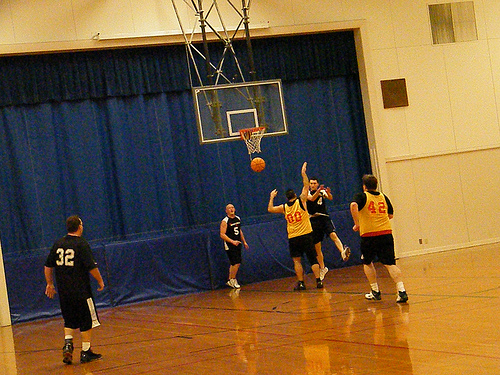basketball: (250, 156, 266, 173)
